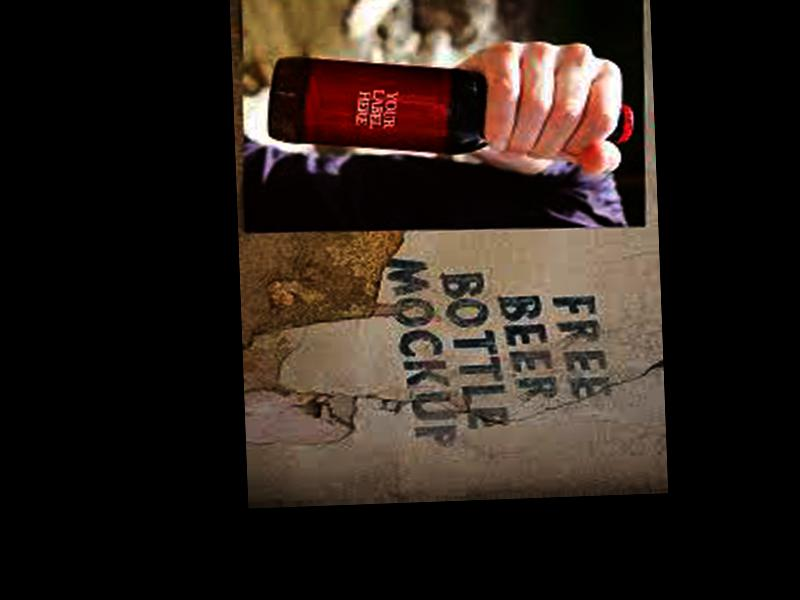Beer: (265, 44, 634, 157)
